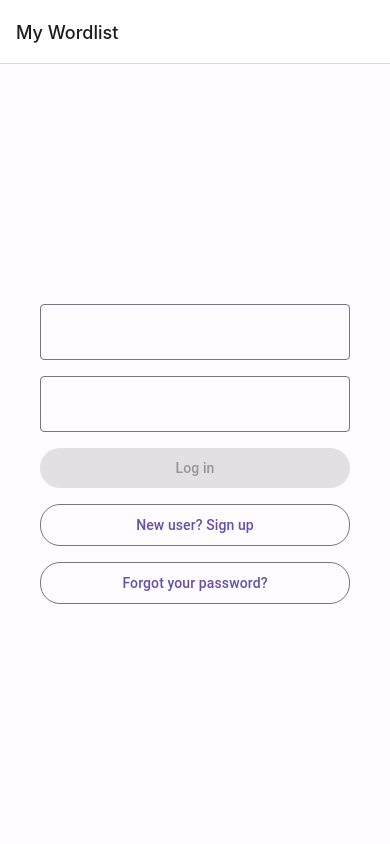
Test case: LogInScreen › after typing one character in email field and one character in password field › after tapping submit button › a suitable validation message appears
This screenshot has width=390, height=844.
Type "t" into the field labelled "email" at (195, 332), box x1=40 y1=304 x2=350 y2=360
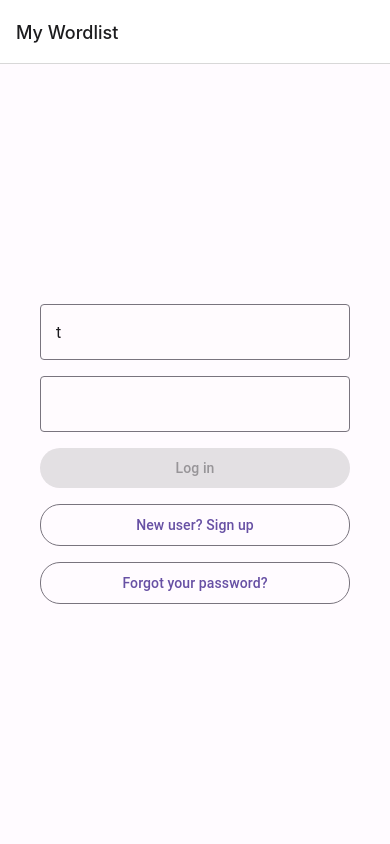
Type "a" into the password field labelled "password" at (167, 404), box x1=40 y1=376 x2=294 y2=432
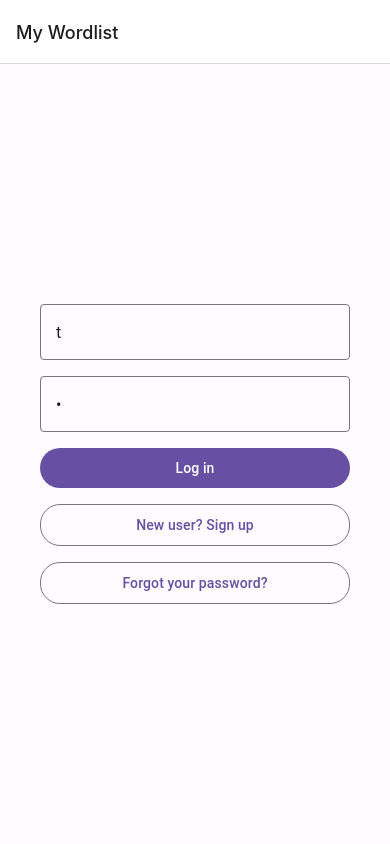
Click the button "Log in" at (195, 468), box x1=40 y1=448 x2=350 y2=488
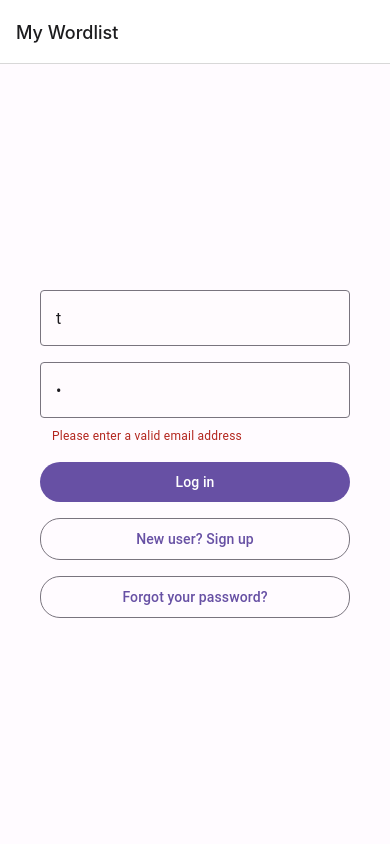
Now the text "Please enter a valid email address" is shown, box x1=52 y1=429 x2=242 y2=443
